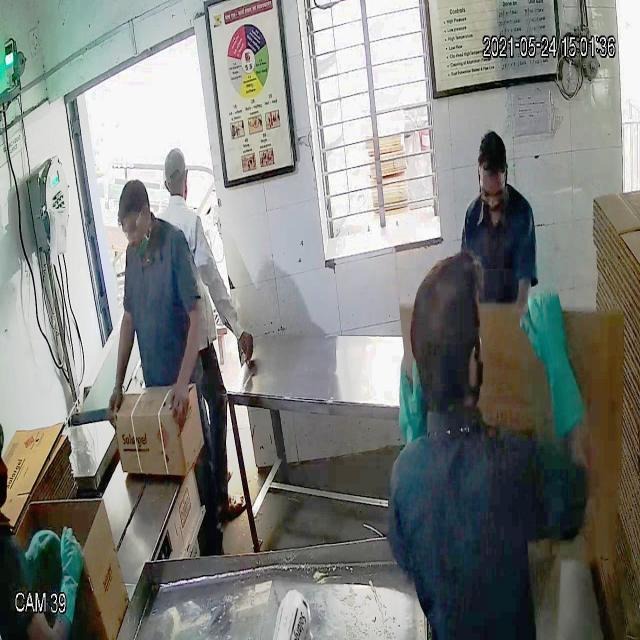glasses: (115, 210, 154, 244), (475, 178, 509, 209)
